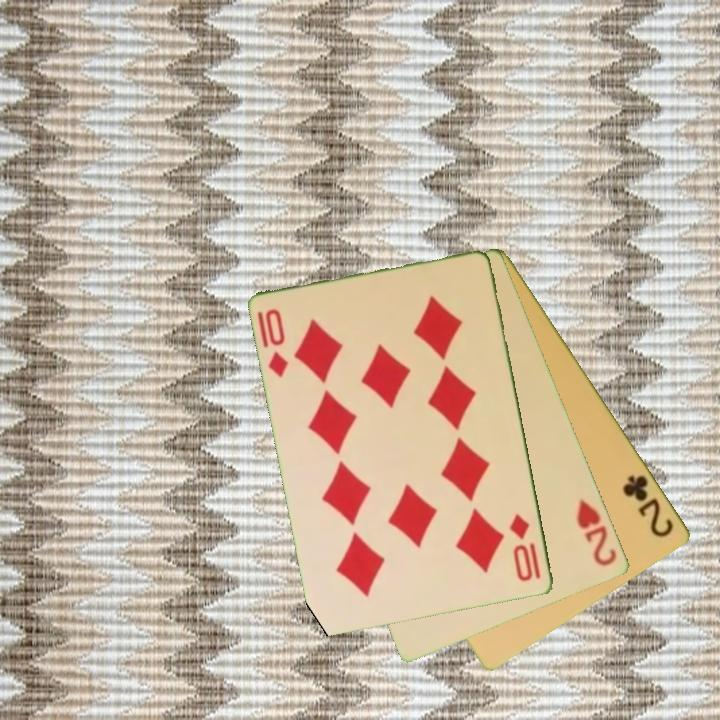10d: (506, 510, 544, 585), (262, 305, 292, 381)
2c: (619, 471, 677, 541)
2h: (573, 495, 621, 570)
